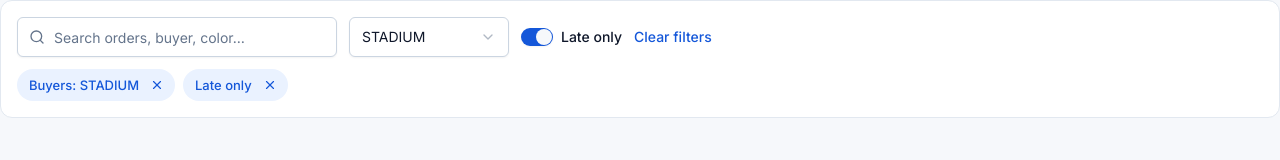
Test: FilterBar › shows active filters as removable chips and clears everything
The width and height of the screenshot is (1280, 160).
Check: the list item "Buyers: STADIUM" is shown, box [17,69,175,101]
Check: the list item "Late only" is shown, box [183,69,288,101]
Click the button named "Remove filter Late only" at (270, 85), box [256,71,284,99]
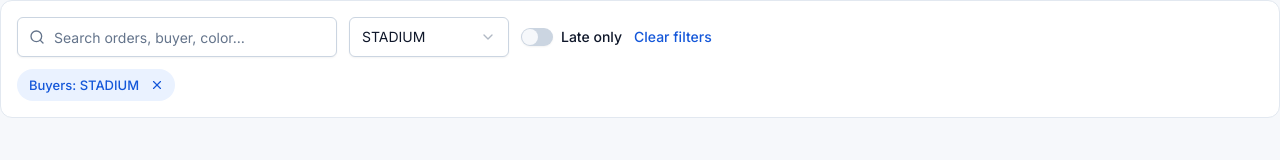
Type "navy" into the search field at (177, 37), box [17,17,337,57]
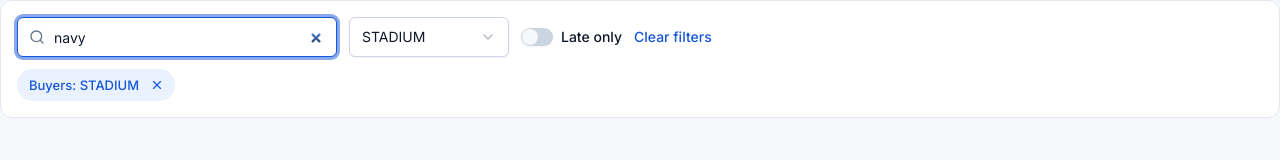
Click the button "Clear filters" at (673, 37), box [634,17,712,57]
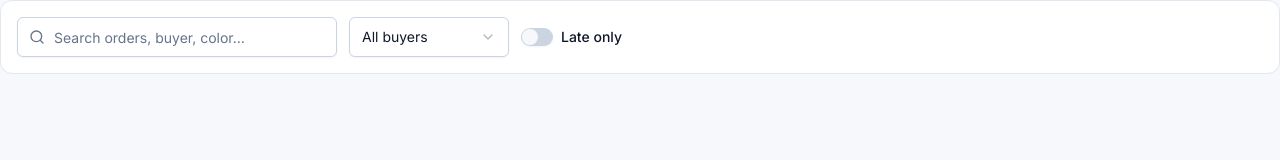
Check: the search field is empty, box [17,17,337,57]
